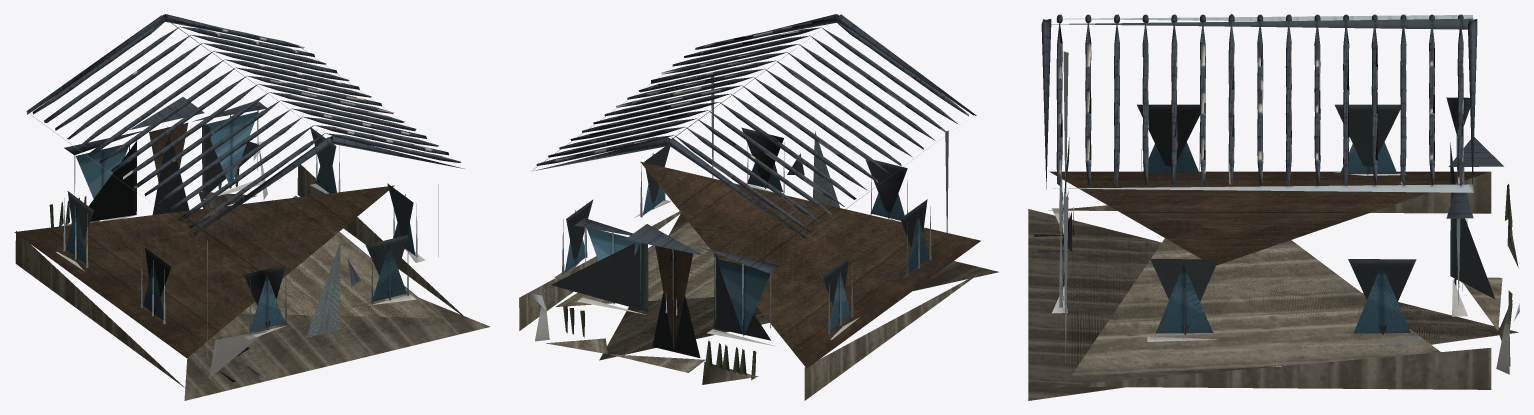
The model's file is residential_003.obj.
3 renders of one model, left to right at view 1: azimuth 30°, elevation 25°; view 2: azimuth 150°, elevation 25°; view 3: azimuth 270°, elevation 25°, orthographic. The views are drawn at different scales.
Parts seen in each view (by area): view 1: residential_003; view 2: residential_003; view 3: residential_003.
Part boxes in pixels (<box>): residential_003: <box>14,14,490,400</box>; residential_003: <box>519,14,998,400</box>; residential_003: <box>1028,14,1519,400</box>.
Bounding box in the file's own units: 6.82 × 4.74 × 7.39.
1 material, 1 textured.
